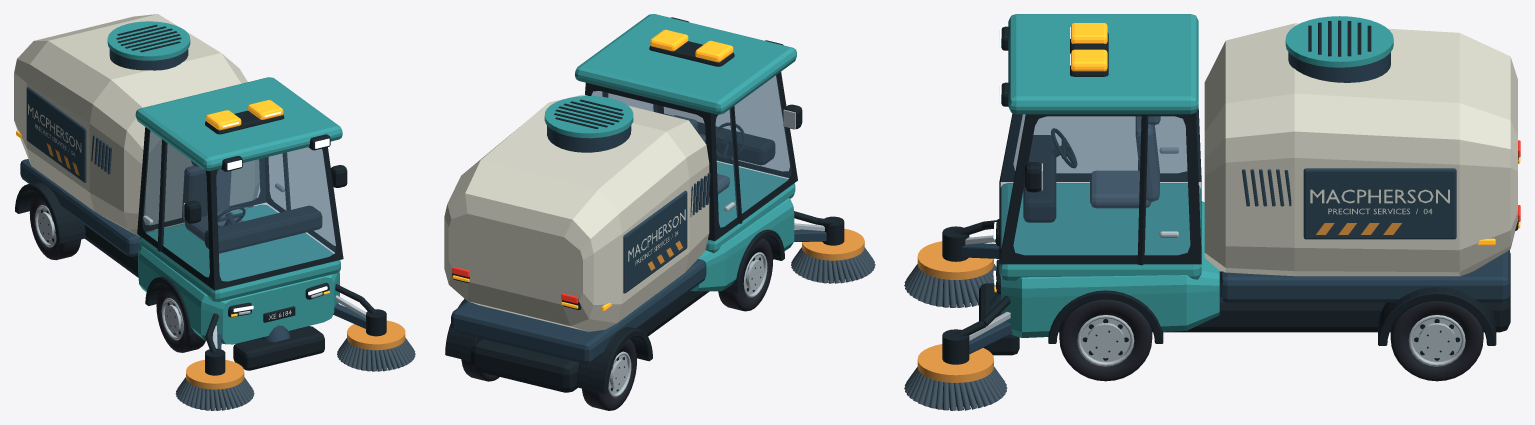
The picture shows the model from 3 angles, left to right: view 1: azimuth 30°, elevation 25°; view 2: azimuth 150°, elevation 25°; view 3: azimuth 270°, elevation 25°; orthographic projection. The views are drawn at different scales.
Visible parts, largest first — view 1: MacPherson Precinct Sweeper; view 2: MacPherson Precinct Sweeper; view 3: MacPherson Precinct Sweeper.
Boxes of the visible parts, <box> form: MacPherson Precinct Sweeper: <box>14,14,415,410</box>; MacPherson Precinct Sweeper: <box>444,14,875,410</box>; MacPherson Precinct Sweeper: <box>904,14,1520,410</box>.
Size of the model in its own units: 2.31 by 2.23 by 4.11.
